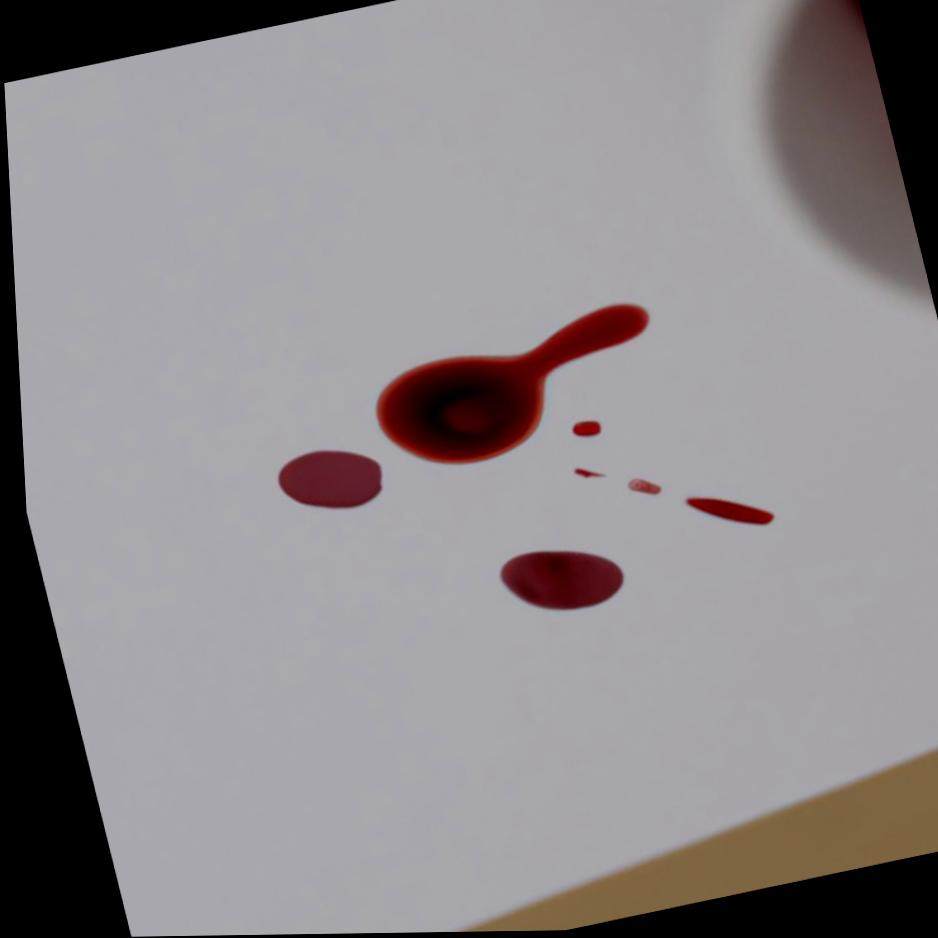Fire: (370, 306, 645, 466), (493, 552, 617, 612), (271, 451, 377, 510), (680, 499, 768, 528), (567, 422, 596, 438)
